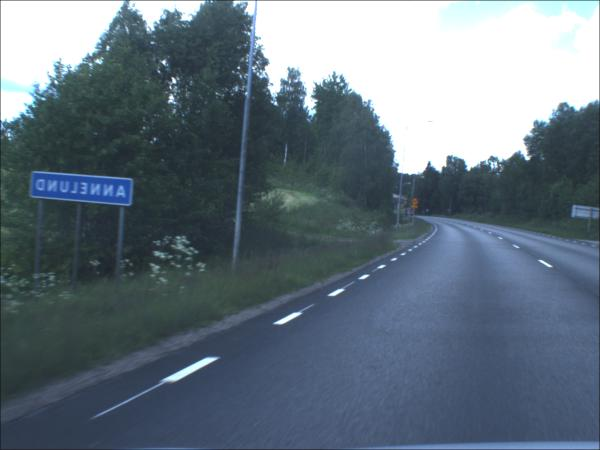50_SIGN: (411, 200, 419, 207)
